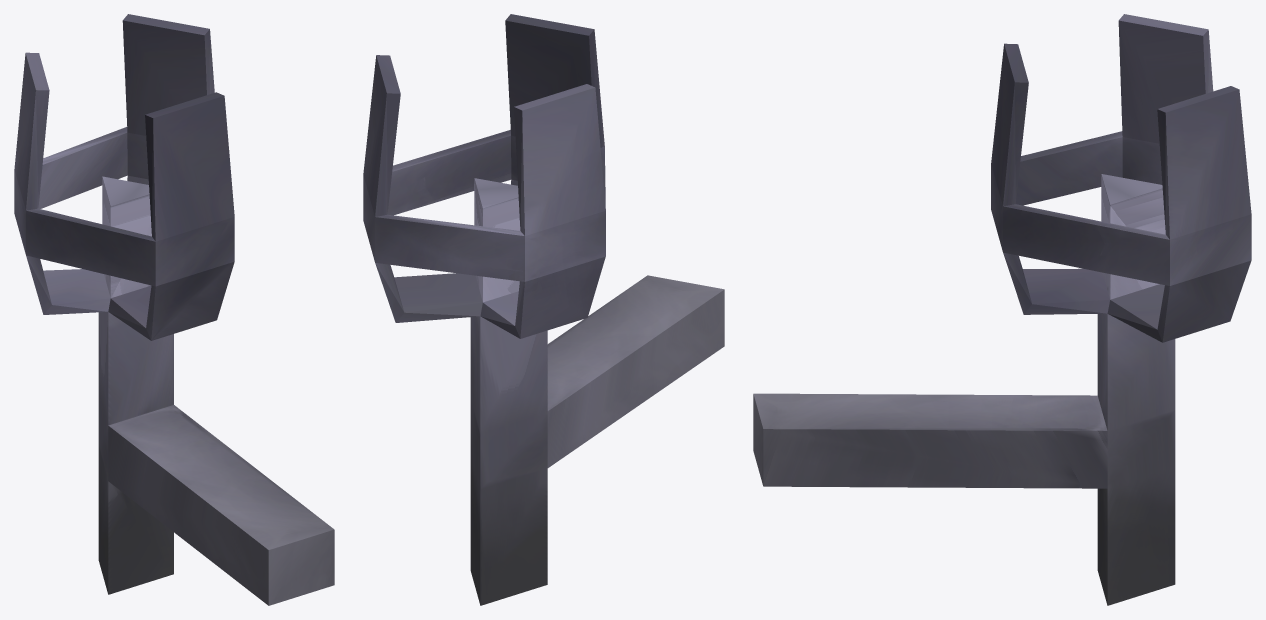
The model's file is torch.obj.
The picture shows the model from 3 angles, left to right: view 1: azimuth 30°, elevation 25°; view 2: azimuth 150°, elevation 25°; view 3: azimuth 270°, elevation 25°; orthographic projection. The views are drawn at different scales.
Parts seen in each view (by area): view 1: Antorcha_Circle.000; view 2: Antorcha_Circle.000; view 3: Antorcha_Circle.000.
Boxes of the visible parts, <box> form: Antorcha_Circle.000: <box>14,14,334,605</box>; Antorcha_Circle.000: <box>363,14,724,605</box>; Antorcha_Circle.000: <box>753,14,1251,605</box>.
Bounding box in the file's own units: 0.2678 × 0.6074 × 0.5208.
